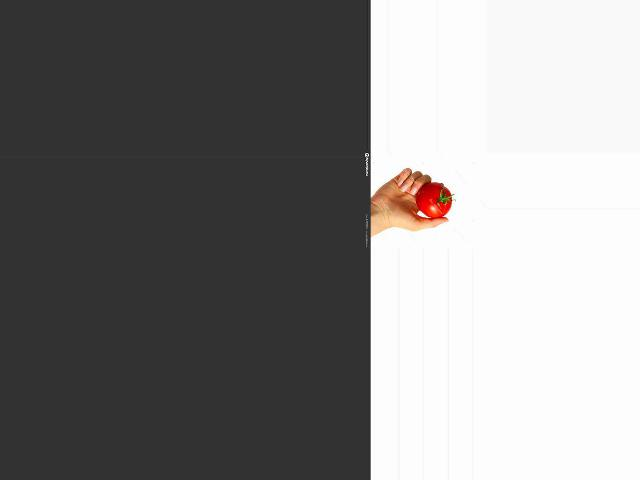tomato: (416, 183, 452, 218)
